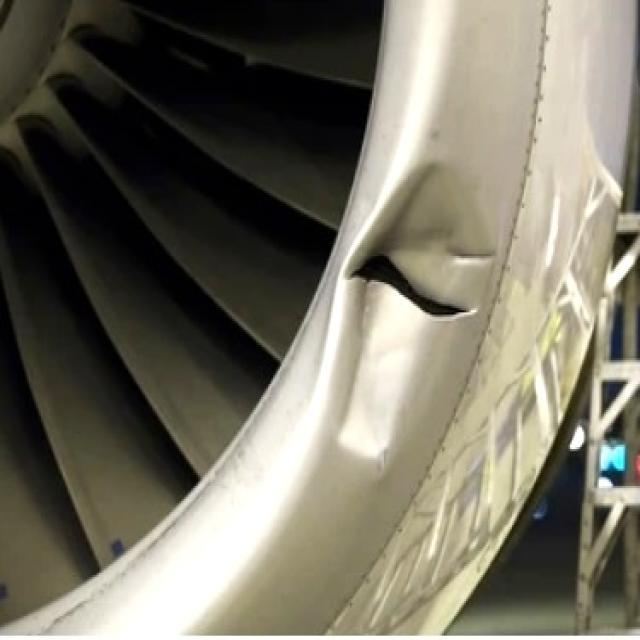crack: (343, 246, 486, 331)
dent: (302, 315, 460, 479), (346, 155, 494, 242)
